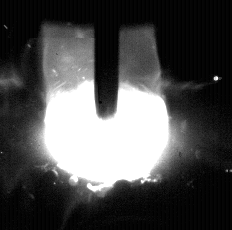arame: (95, 0, 120, 120)
poca: (43, 0, 170, 230)
